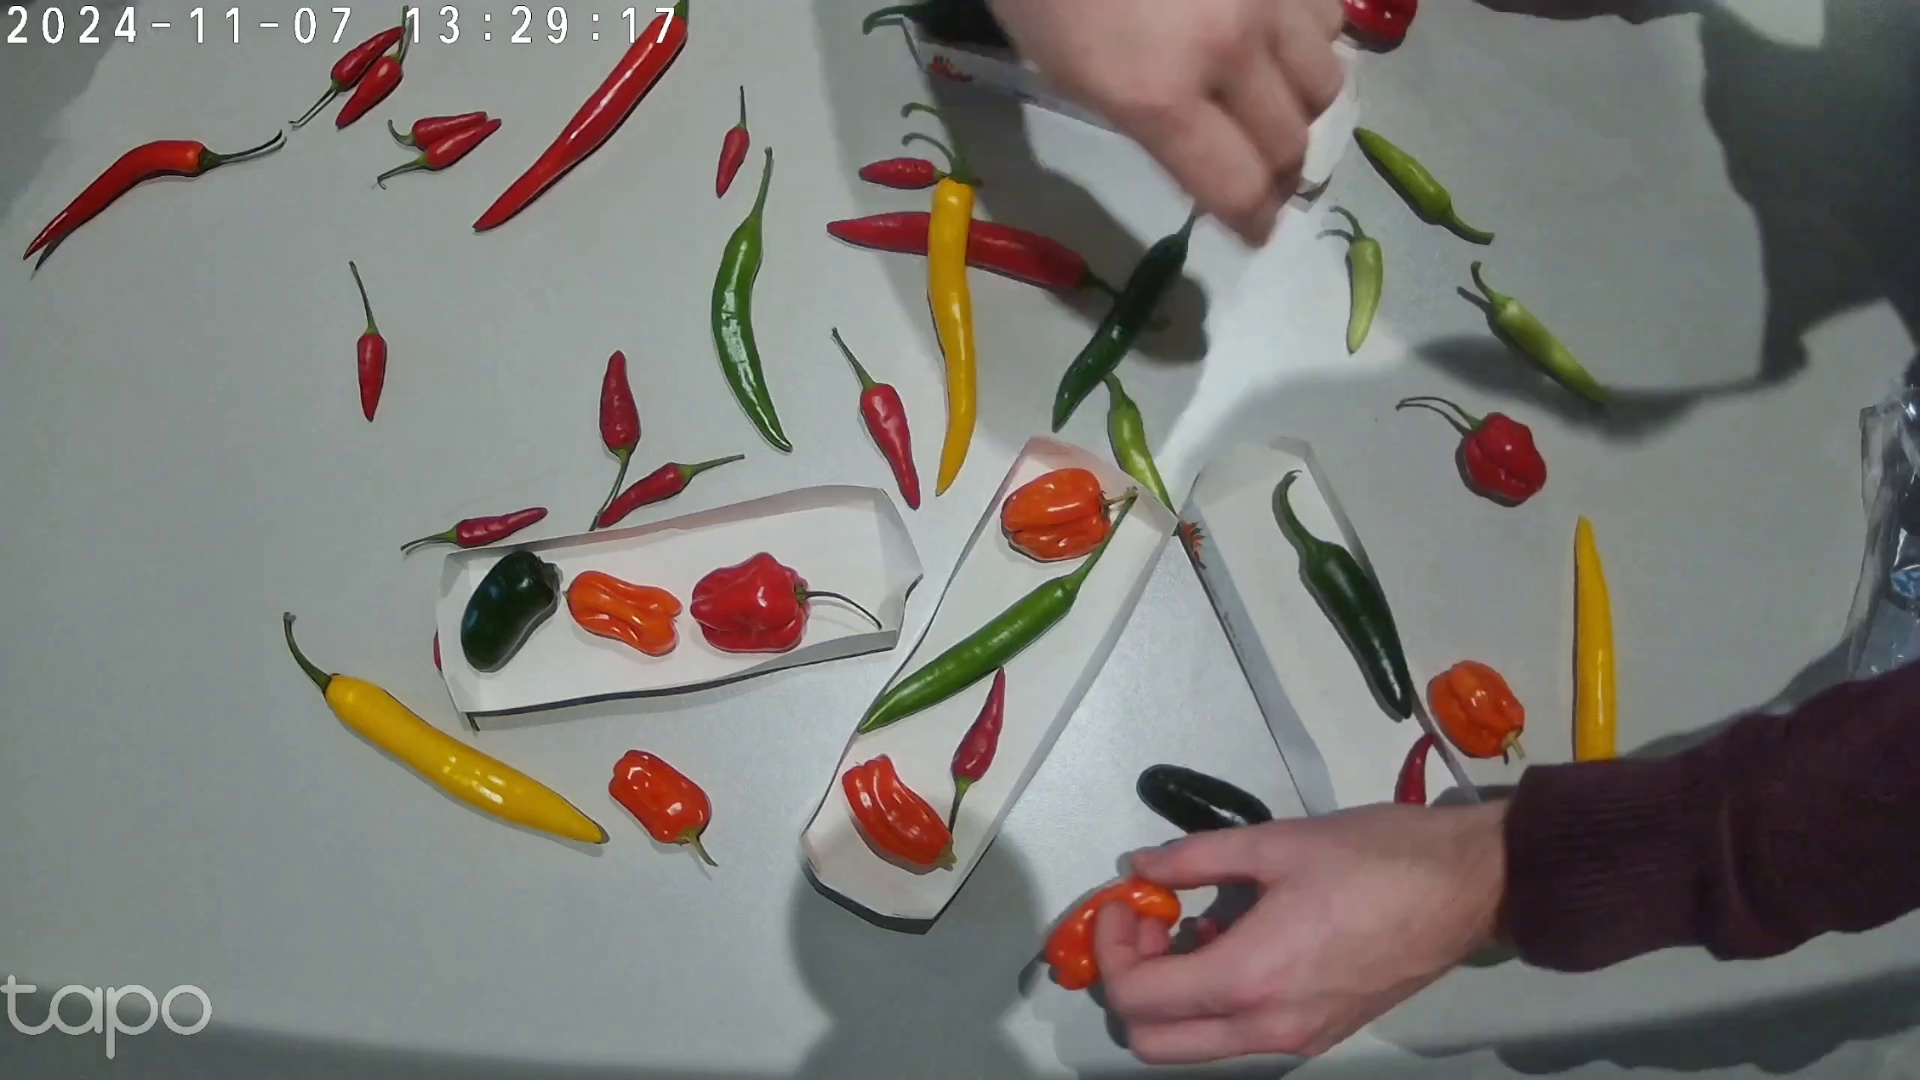Habanero_Pepper_Red: (684, 550, 884, 653), (1399, 394, 1547, 502)
Jalapeno_Green: (1266, 472, 1408, 720), (1052, 208, 1197, 433), (1138, 758, 1316, 887), (459, 551, 560, 673)
Leon_Orange: (998, 468, 1135, 564), (843, 753, 955, 868), (609, 749, 720, 865), (1427, 661, 1528, 761), (563, 571, 682, 655)
Rawit_Green: (1470, 260, 1606, 405), (1352, 127, 1495, 243), (1102, 371, 1176, 522), (1327, 207, 1382, 355)
Rawit_Red: (831, 324, 920, 509), (600, 454, 745, 529), (947, 667, 1005, 832), (376, 117, 504, 191), (592, 348, 641, 529), (400, 502, 547, 550), (348, 258, 388, 421), (715, 86, 754, 200), (385, 111, 488, 149), (858, 157, 951, 190), (1393, 733, 1432, 806)
Spanish_Pepper_Green: (858, 489, 1134, 735), (708, 148, 793, 452)
Spanish_Pepper_Red: (24, 128, 282, 261), (825, 210, 1125, 305)
Spanish_Pepper_Yellow: (284, 611, 608, 847), (899, 103, 977, 498), (1571, 510, 1617, 760)
